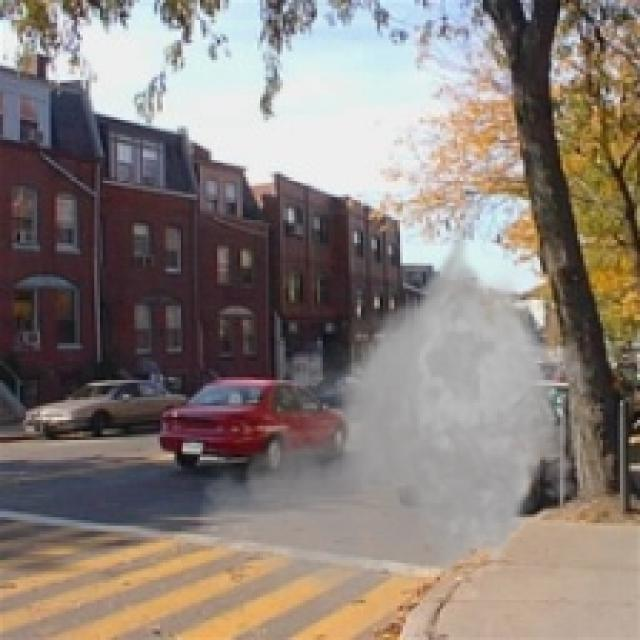Smoke: (191, 202, 606, 618)
